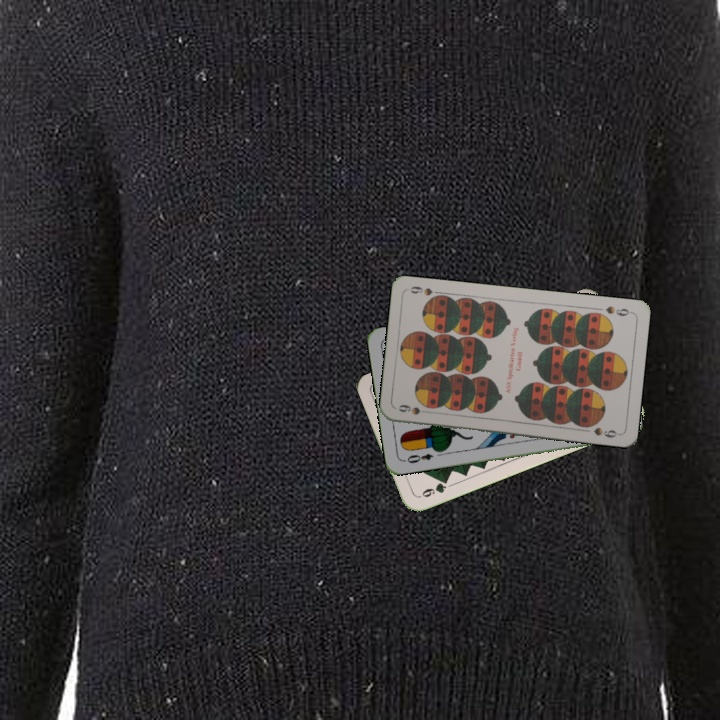EO: (400, 449, 436, 466)
G9: (418, 475, 451, 500)
S9: (394, 401, 434, 417), (601, 302, 634, 319)
